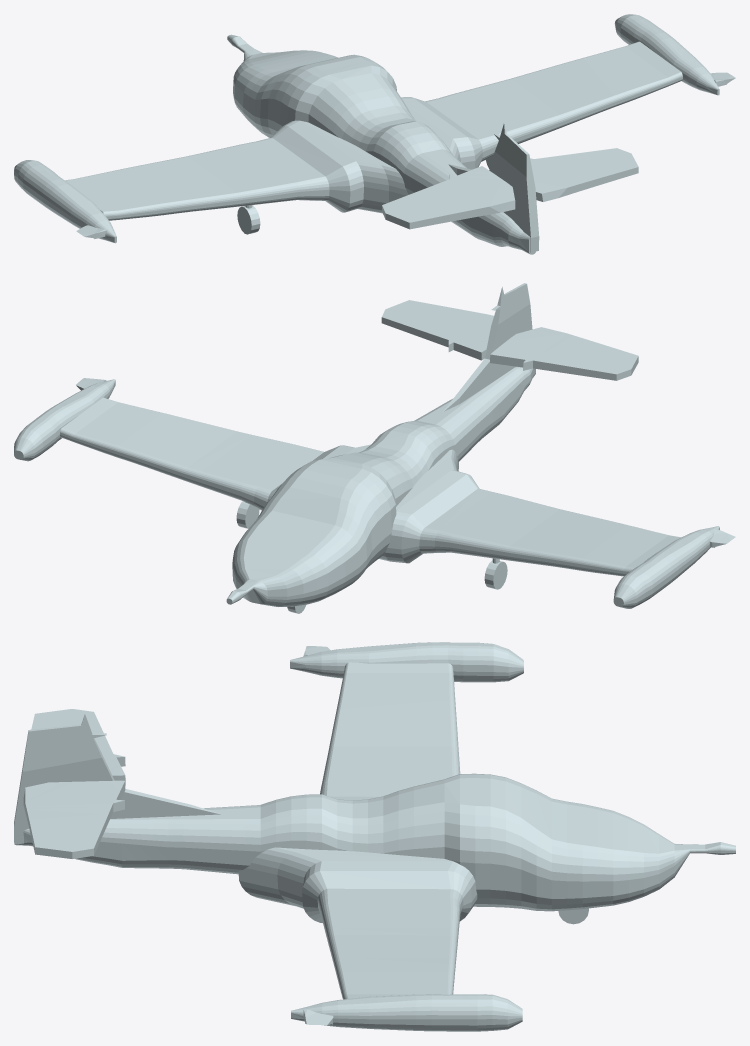
3 views of the same model, one above another, from view 1: azimuth 30°, elevation 25°; view 2: azimuth 150°, elevation 25°; view 3: azimuth 270°, elevation 25° (orthographic). The views are drawn at different scales.
Parts seen in each view (by area): view 1: Aircraft visual hull, Landing gear; view 2: Aircraft visual hull, Landing gear; view 3: Aircraft visual hull.
Boxes of the visible parts, box(x1,y1,x2,y2) form: Aircraft visual hull: box(14, 14, 735, 254); Landing gear: box(237, 156, 493, 234); Aircraft visual hull: box(14, 283, 735, 608); Landing gear: box(236, 501, 507, 613); Aircraft visual hull: box(14, 642, 735, 1031).
Size of the model in its own units: 10.76 by 2.76 by 8.67.
